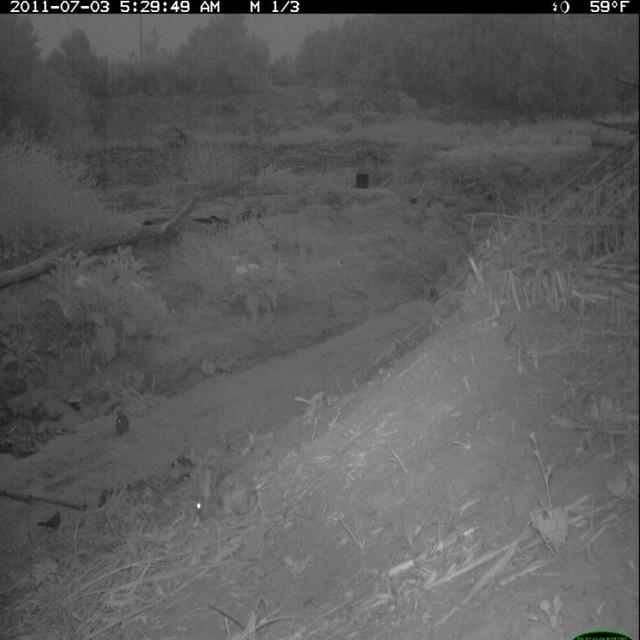rabbit: (189, 460, 262, 532), (113, 407, 132, 439)
